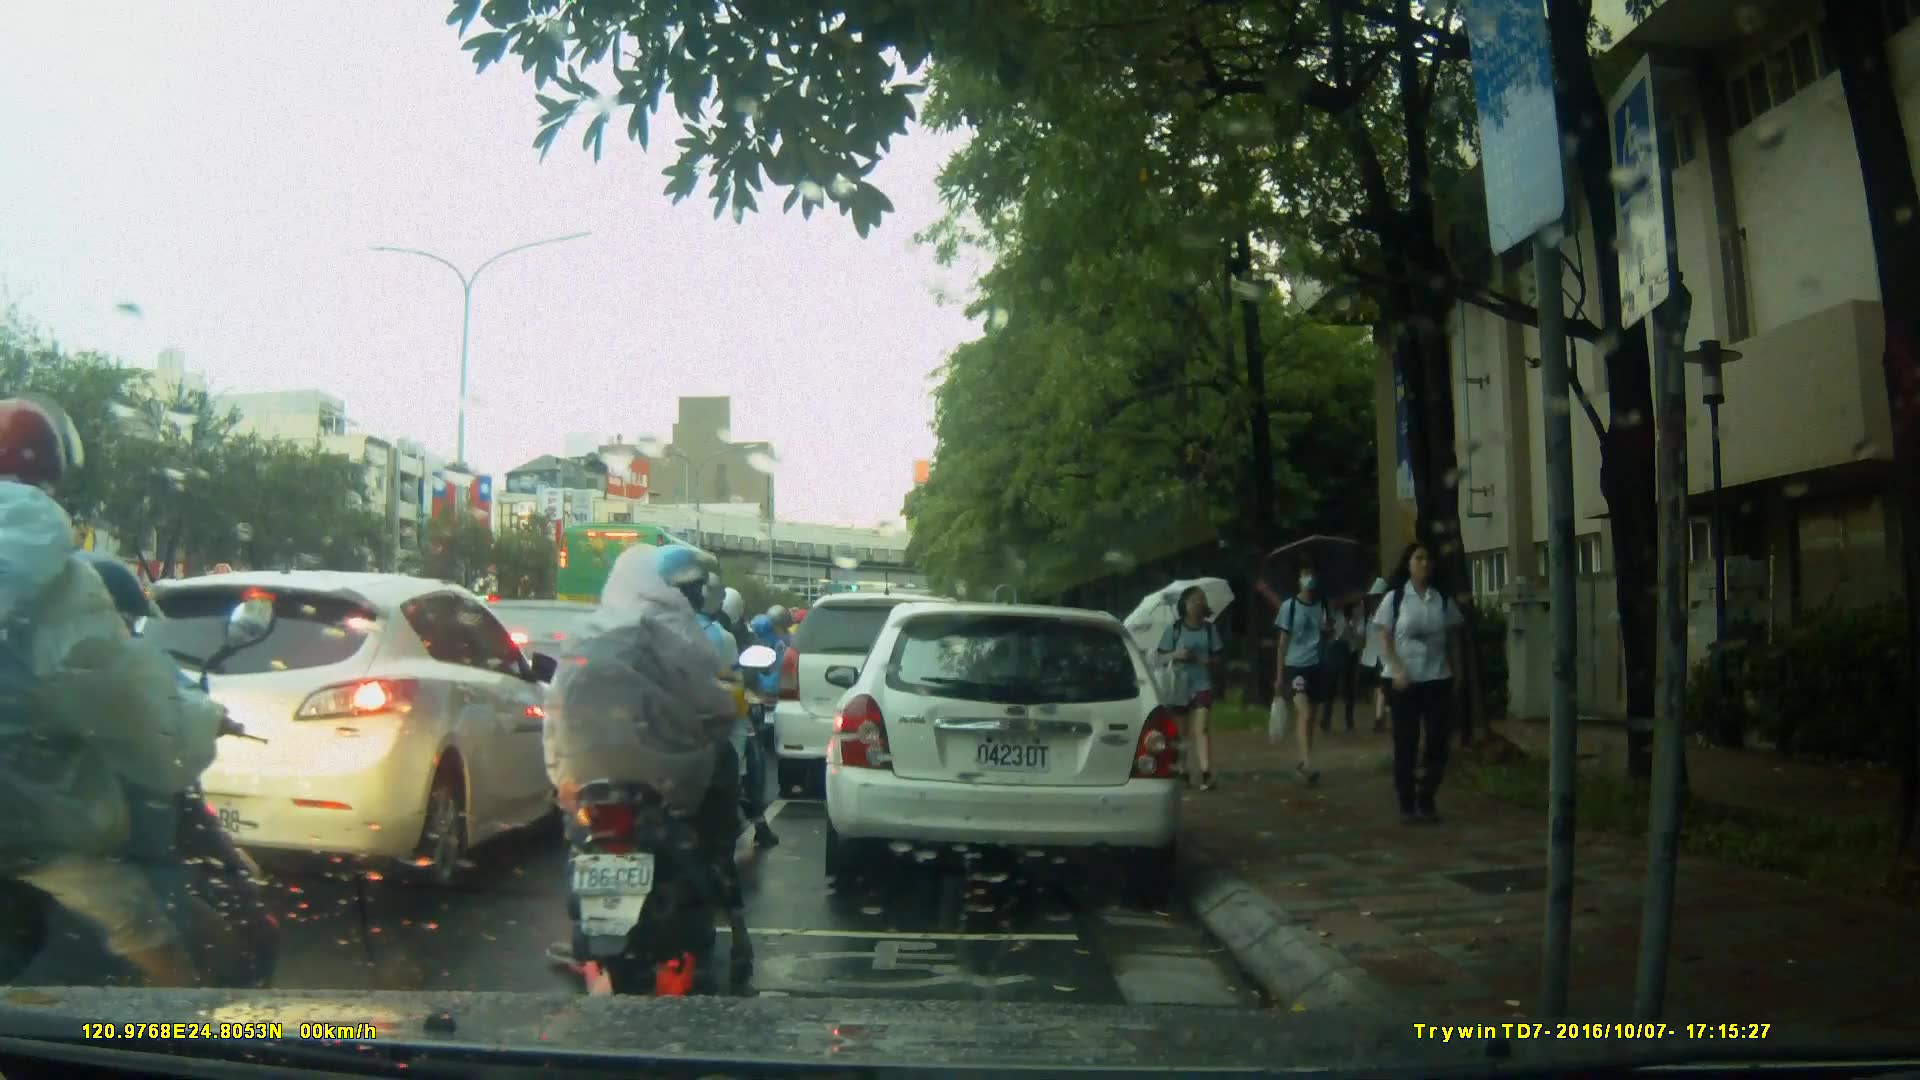pedestrian: (1369, 536, 1484, 837), (1258, 554, 1341, 790), (1159, 581, 1225, 793), (1134, 605, 1175, 740)
rider: (2, 391, 314, 1069), (533, 543, 774, 984), (612, 563, 749, 866), (645, 580, 759, 836), (737, 601, 798, 746)
vehicle: (93, 569, 590, 883), (822, 604, 1186, 882), (774, 595, 995, 802), (554, 519, 739, 666)
